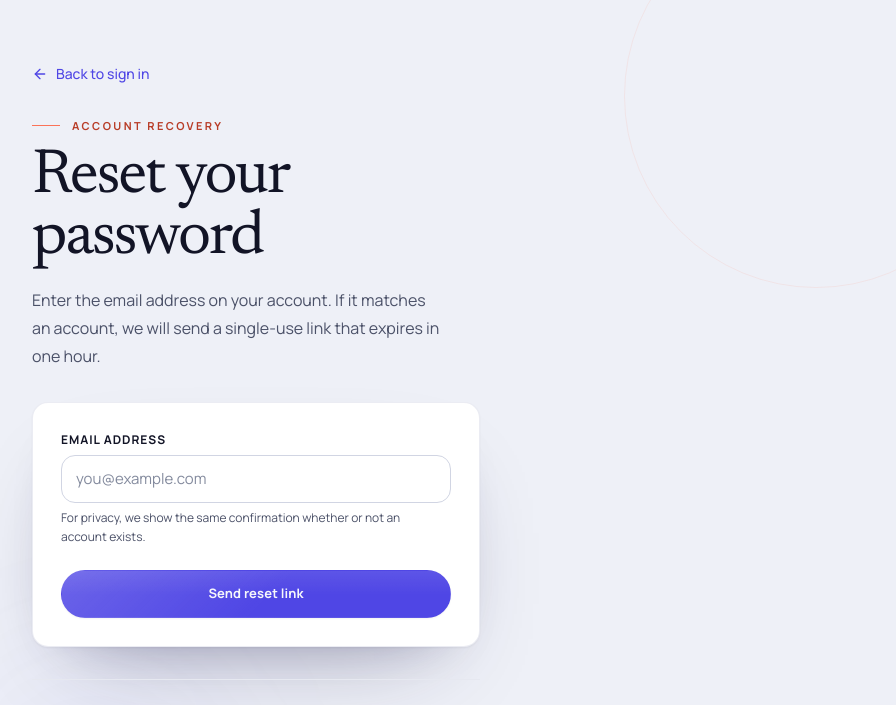
Test: ForgotPasswordPage › reports a rate-limited request without revealing whether the account exists
Type "asha@example.com" into the field labelled "Email address".
click(256, 479); type("asha@example.com")  # box [61,455,451,503]
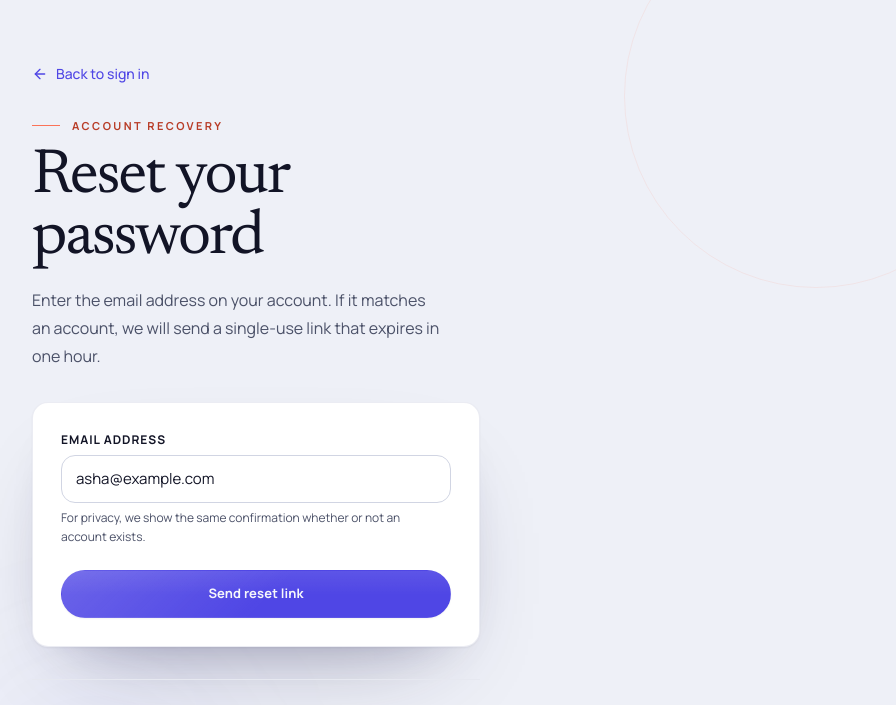
Click the button "Send reset link".
click(256, 594)  # box [61,570,451,618]
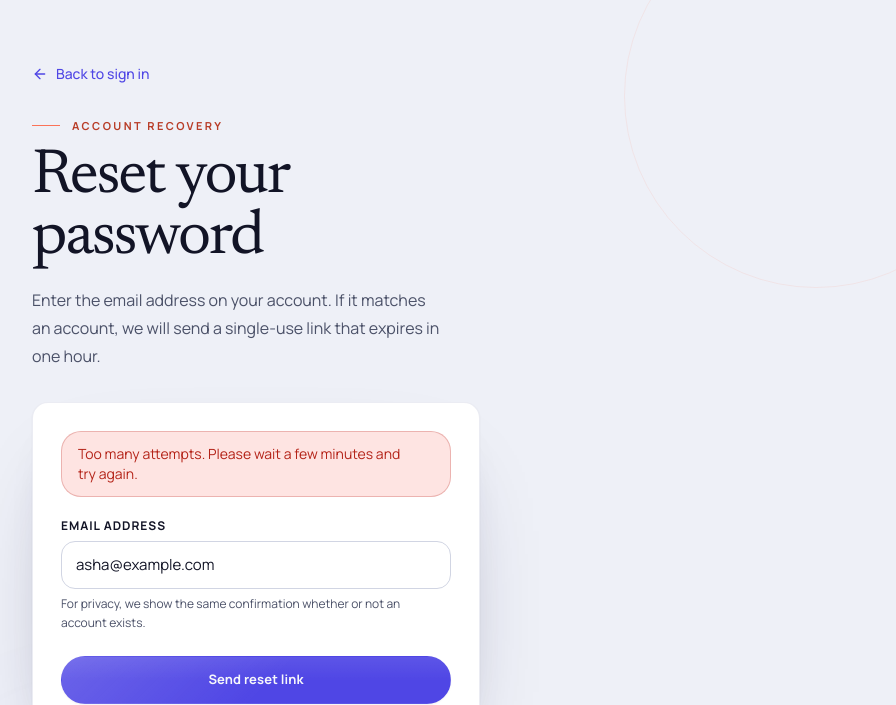
Expected: the message shows "Too many attempts", [78,444,400,483]
